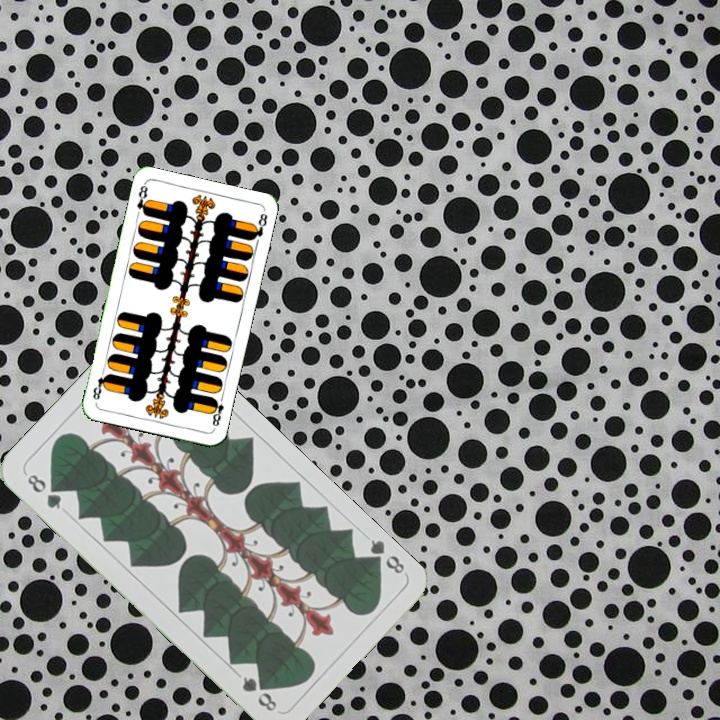E8: (206, 392, 226, 429), (133, 180, 152, 218)
G8: (362, 535, 407, 577), (23, 470, 65, 512)
